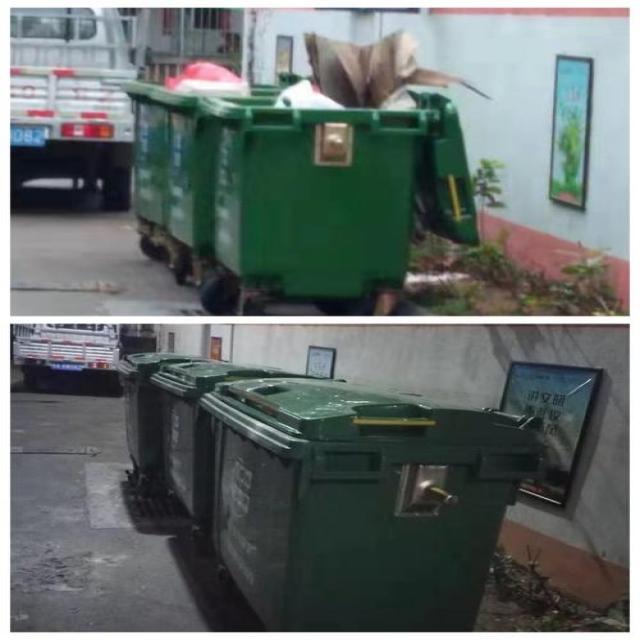garbage_bin: (203, 377, 542, 632), (151, 362, 307, 520), (118, 353, 210, 466)
overflow: (201, 34, 477, 296), (124, 61, 279, 246)
